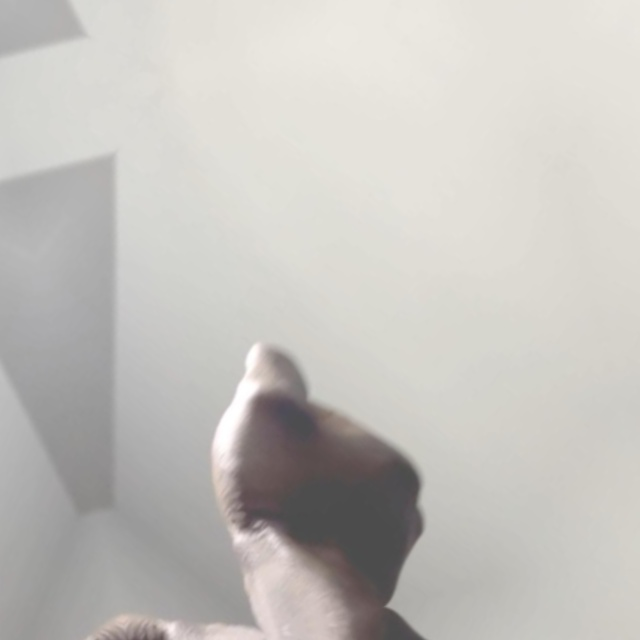Rock: (131, 293, 487, 640)
